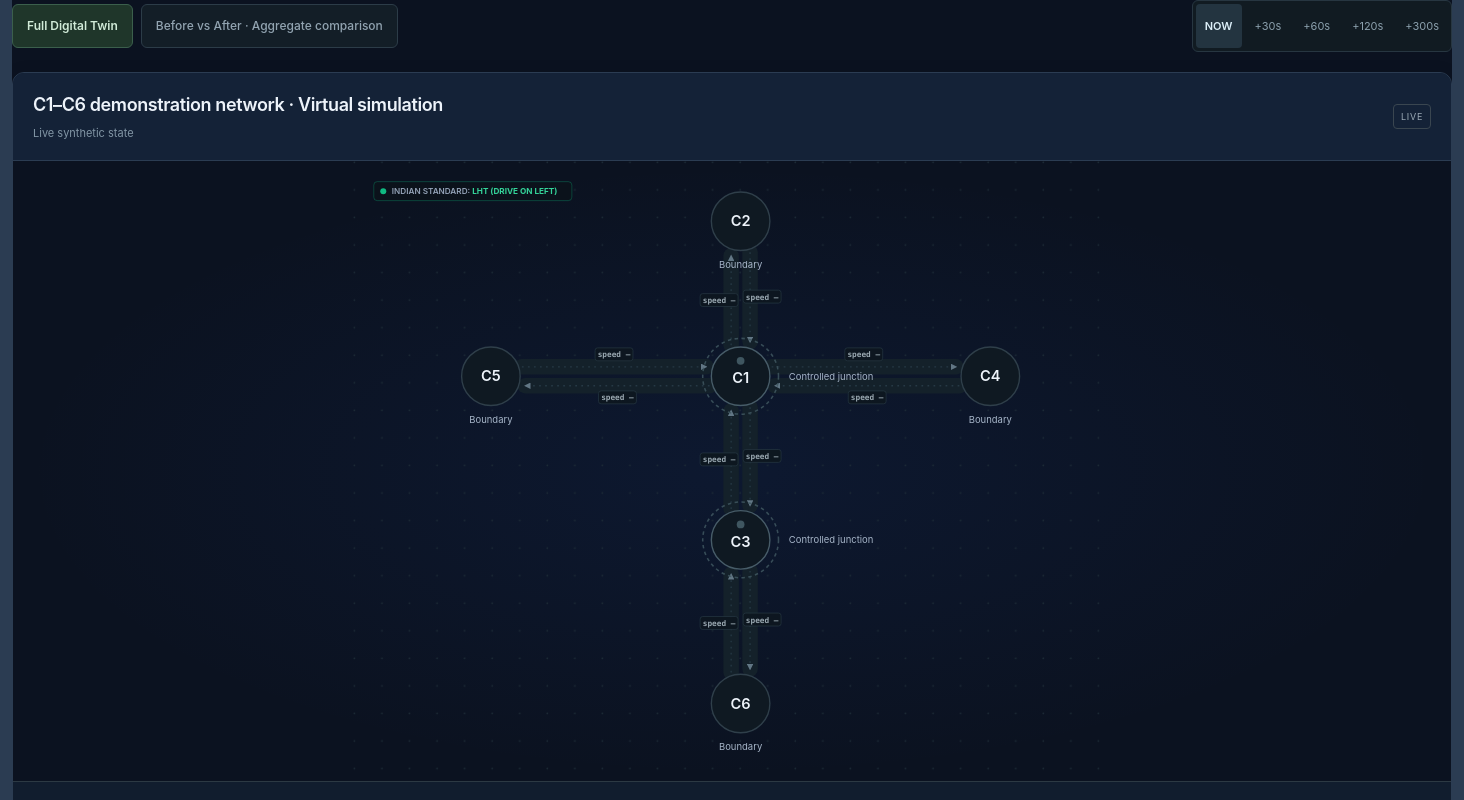
Epic 7: Before-vs-after Evidence (S21, S22) › S21: Isolated equal-seed simulation branches › renders simulation provenance strip with seed, initial time, horizon, and model version
The width and height of the screenshot is (1464, 800).
Switch to comparison view
Click the button "Before vs After · Aggregate comparison" at [269, 26], box [141,4,398,48]
(page scrolled)
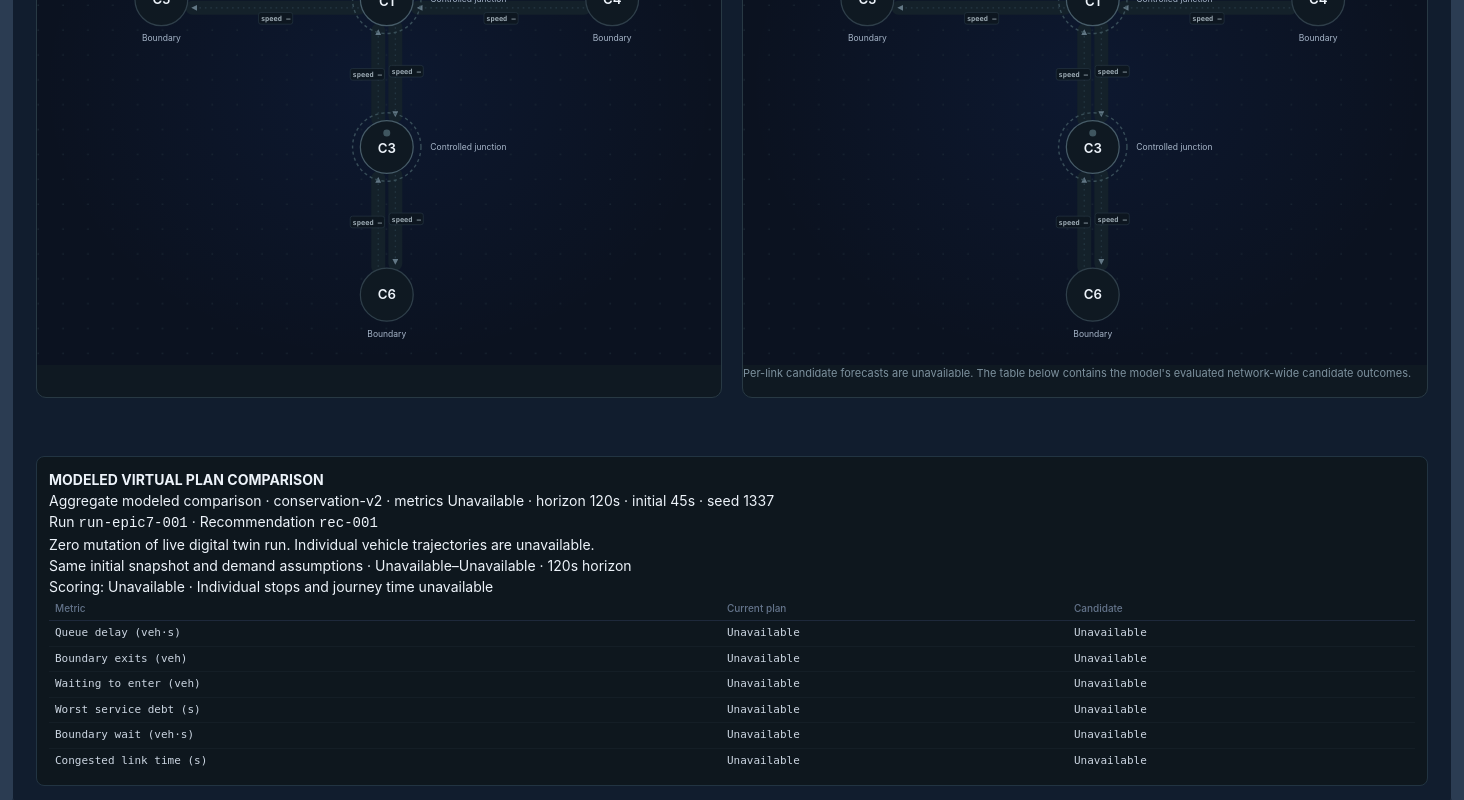
Now the text "conservation-v2" is shown, box [274,492,382,509]
Now the text "initial 45s" is shown, box [49,492,774,509]
